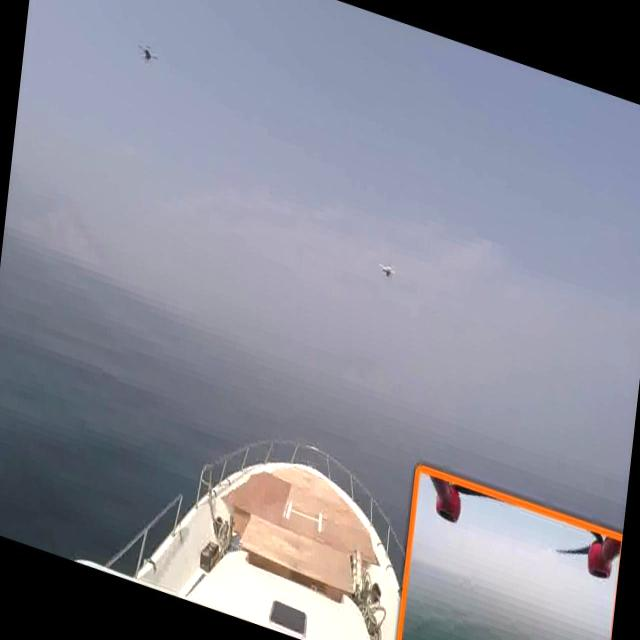drone: (132, 35, 160, 73), (374, 255, 400, 285)
